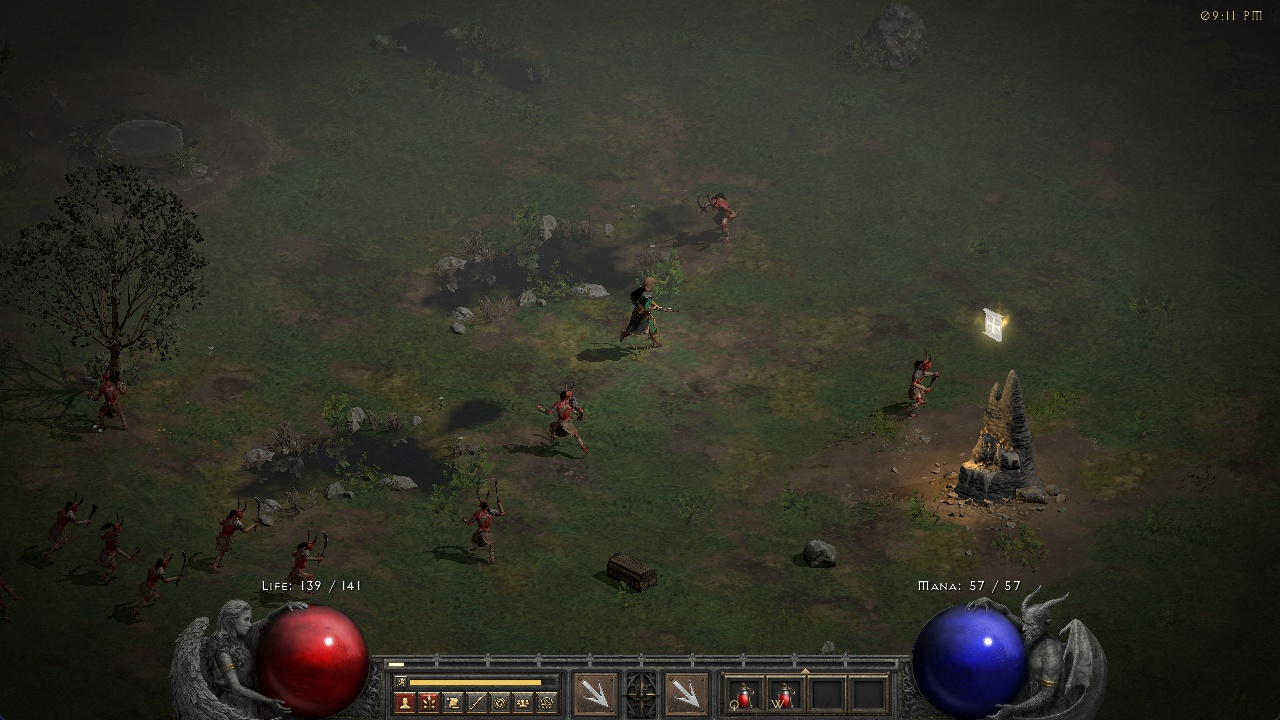fallen: (210, 495, 261, 570), (902, 348, 951, 421), (465, 476, 505, 555), (541, 384, 586, 452), (135, 548, 186, 608), (286, 527, 335, 586), (42, 494, 95, 548), (88, 371, 131, 432), (701, 190, 740, 243), (101, 516, 133, 576)
